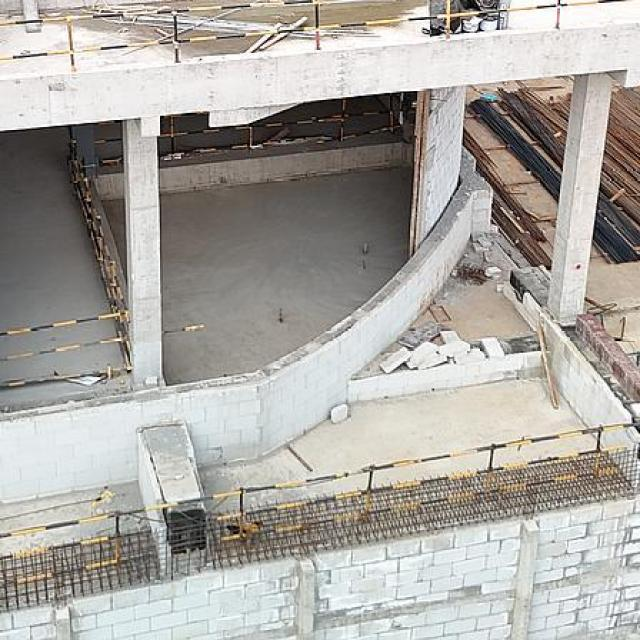edge_guardrail: (2, 420, 637, 584), (0, 0, 612, 71), (158, 98, 416, 156), (69, 153, 130, 368), (0, 310, 131, 388), (94, 136, 124, 165)
